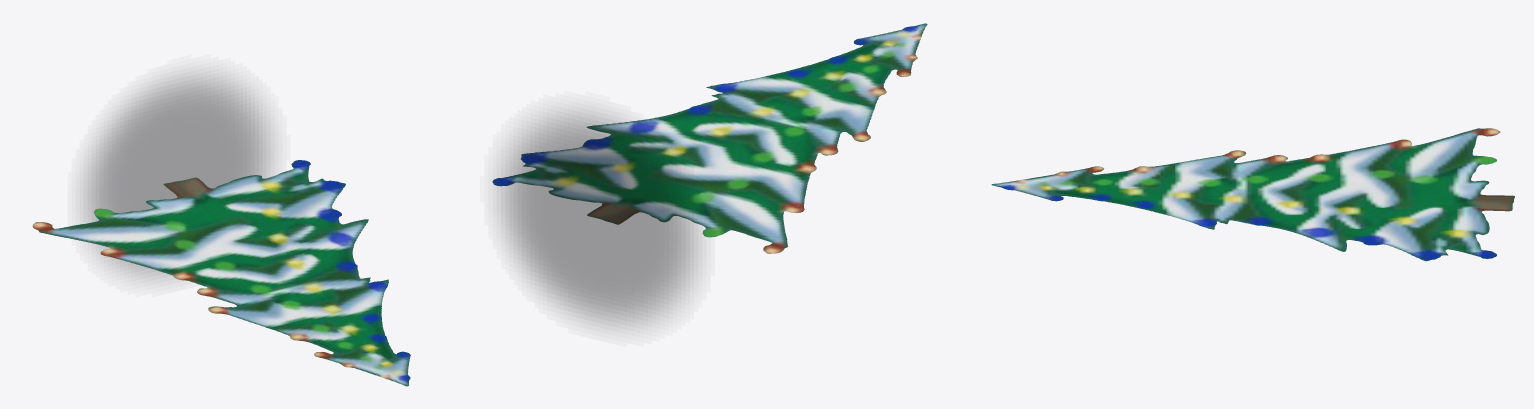
File: prop_snow_tree_small_ur.glb
3 renders of one model, left to right at view 1: azimuth 30°, elevation 25°; view 2: azimuth 150°, elevation 25°; view 3: azimuth 270°, elevation 25°, orthographic. The views are drawn at different scales.
Parts seen in each view (by area): view 1: p290_6__billboard, shadow_snow_tree_small_nobox_ur; view 2: p290_6__billboard, shadow_snow_tree_small_nobox_ur; view 3: p290_6__billboard.
Part boxes in pixels (<box>): p290_6__billboard: <box>32,160,410,386</box>; shadow_snow_tree_small_nobox_ur: <box>83,73,270,279</box>; p290_6__billboard: <box>492,23,927,253</box>; shadow_snow_tree_small_nobox_ur: <box>501,110,698,327</box>; p290_6__billboard: <box>991,128,1514,261</box>.
Bounding box in the file's own units: 14.12 × 12.32 × 23.14.
2 materials, 2 textured.
